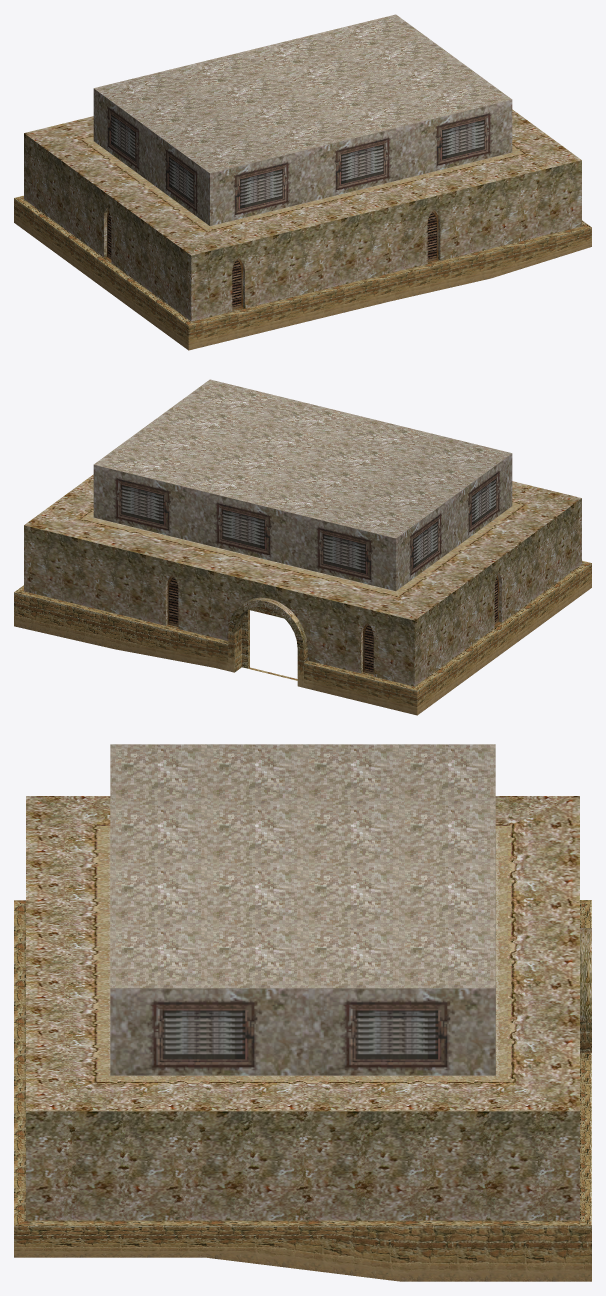
The model's file is M1_New_HutExt_01.glb.
3 renders of one model, top to bottom at view 1: azimuth 30°, elevation 25°; view 2: azimuth 150°, elevation 25°; view 3: azimuth 270°, elevation 25°, orthographic. The views are drawn at different scales.
Visible parts, largest first — view 1: M1_NEW_HUTEXT_01; view 2: M1_NEW_HUTEXT_01; view 3: M1_NEW_HUTEXT_01.
Part boxes in pixels (<box>): M1_NEW_HUTEXT_01: <box>14,14,591,350</box>; M1_NEW_HUTEXT_01: <box>14,379,591,715</box>; M1_NEW_HUTEXT_01: <box>14,744,591,1281</box>.
Bounding box in the file's own units: 16 × 5.79 × 12.
Materials: 6 (6 with a texture image).
